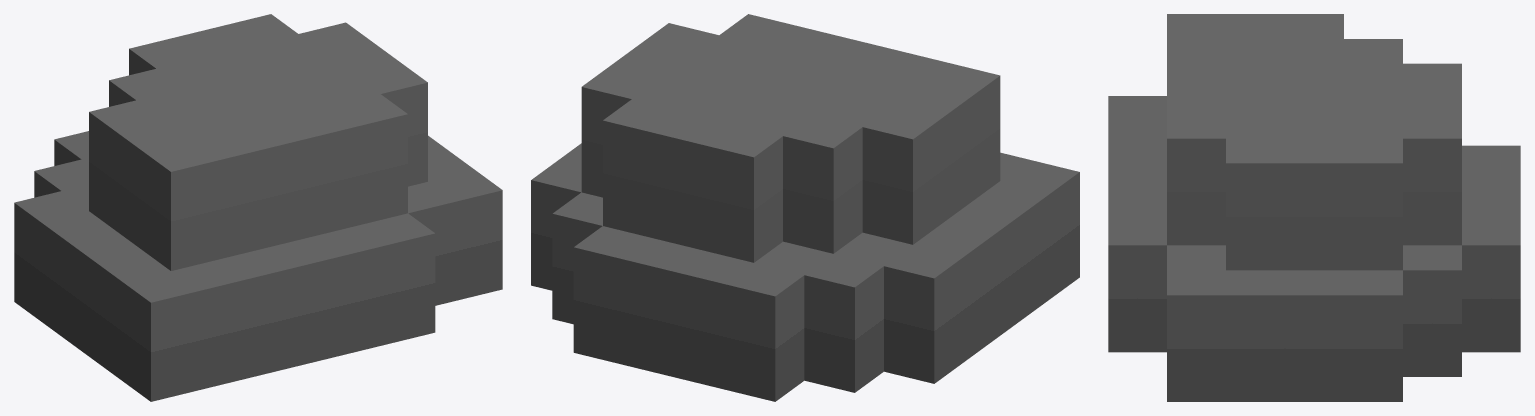
The model's file is rock_small.fbx.
3 views of the same model, side by side, from view 1: azimuth 30°, elevation 25°; view 2: azimuth 150°, elevation 25°; view 3: azimuth 270°, elevation 25° (orthographic). The views are drawn at different scales.
Visible parts, largest first — view 1: rock_small; view 2: rock_small; view 3: rock_small.
Part boxes in pixels (x1,y1,x2,y2): rock_small: (14, 14, 502, 401); rock_small: (531, 14, 1079, 401); rock_small: (1108, 14, 1520, 401).
Bounding box in the file's own units: 38.32 × 19.16 × 33.53.
1 material, 1 textured.
